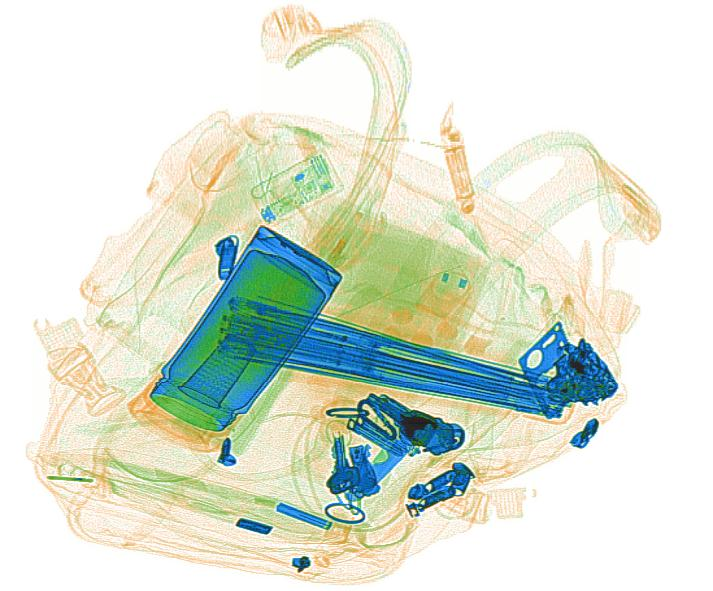battery: (275, 502, 333, 531)
knife: (343, 435, 411, 502)
